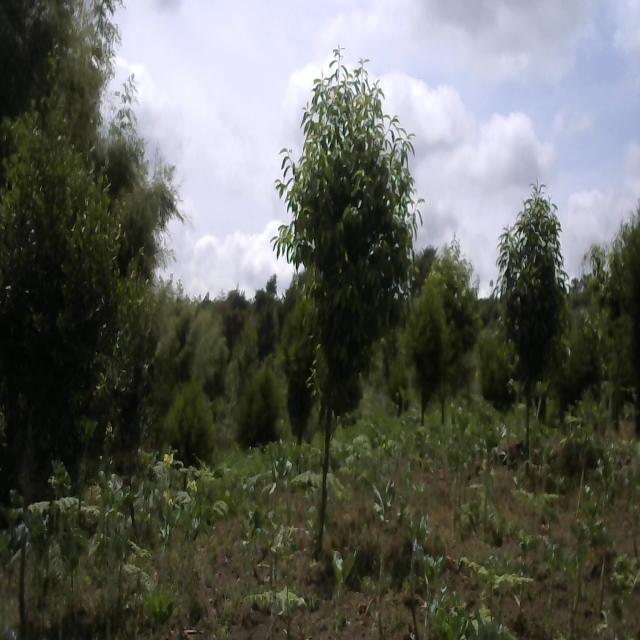Juniperus procesera: (406, 276, 447, 404), (174, 368, 216, 487), (247, 370, 284, 464)
Prunus Africana: (291, 28, 424, 521), (3, 79, 121, 620), (499, 176, 571, 434)
